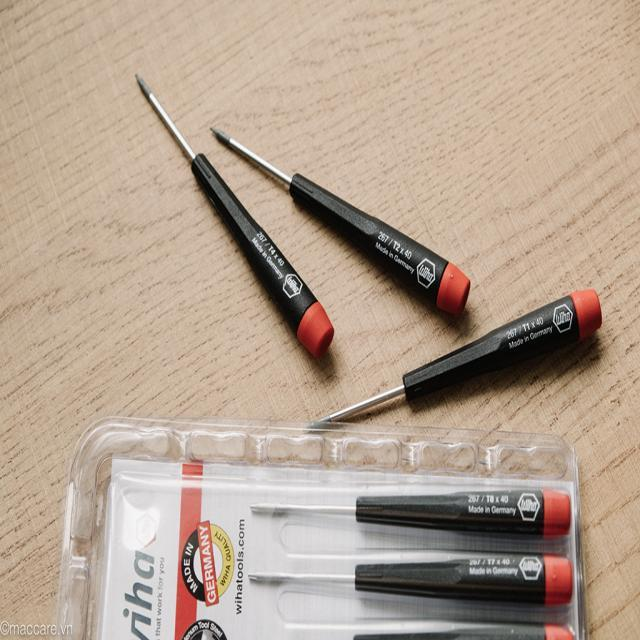screwdriver: (128, 66, 340, 375), (207, 120, 475, 324), (306, 284, 608, 439), (246, 546, 576, 608), (250, 483, 574, 537)
